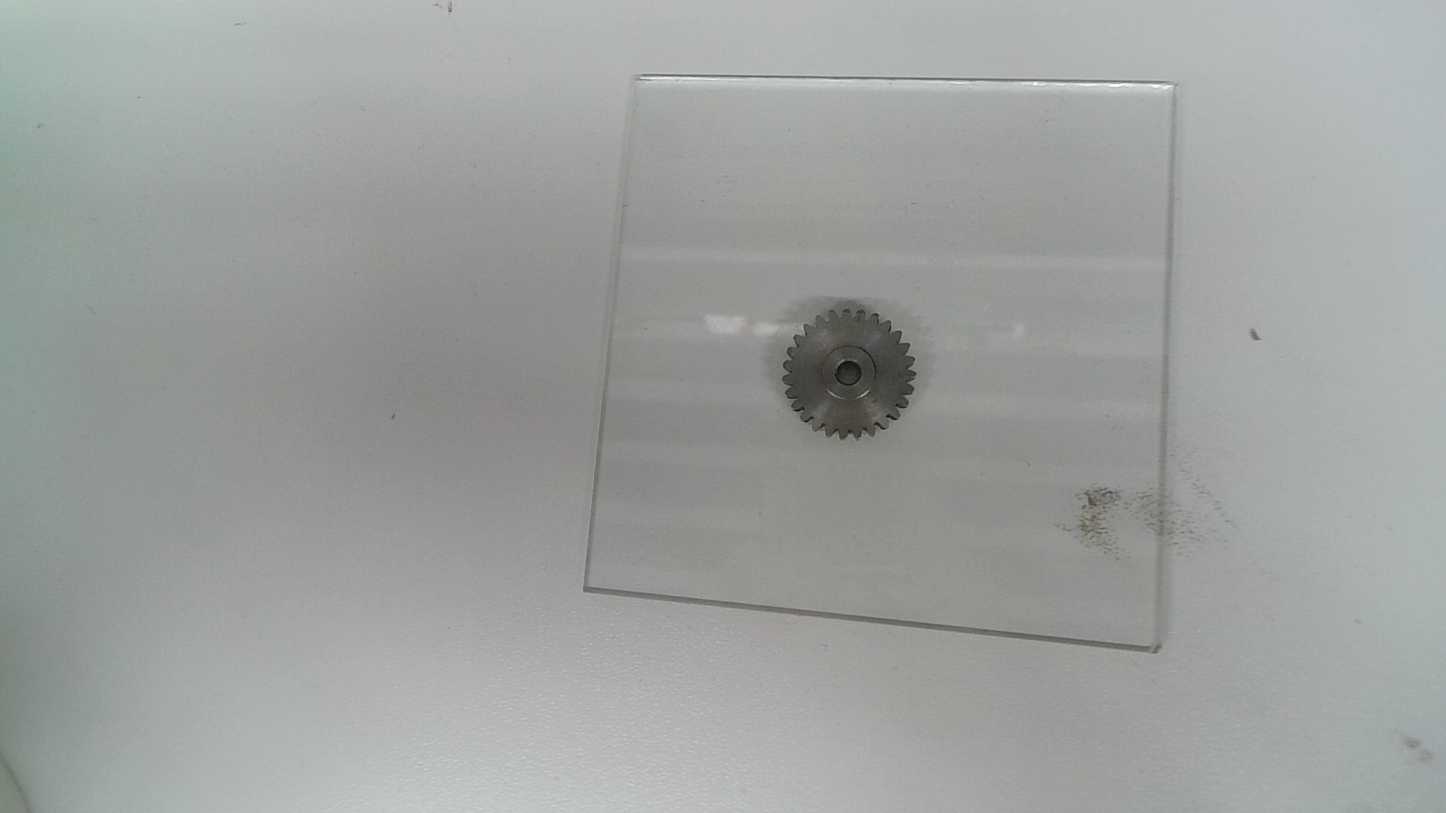gear: (780, 305, 917, 443)
